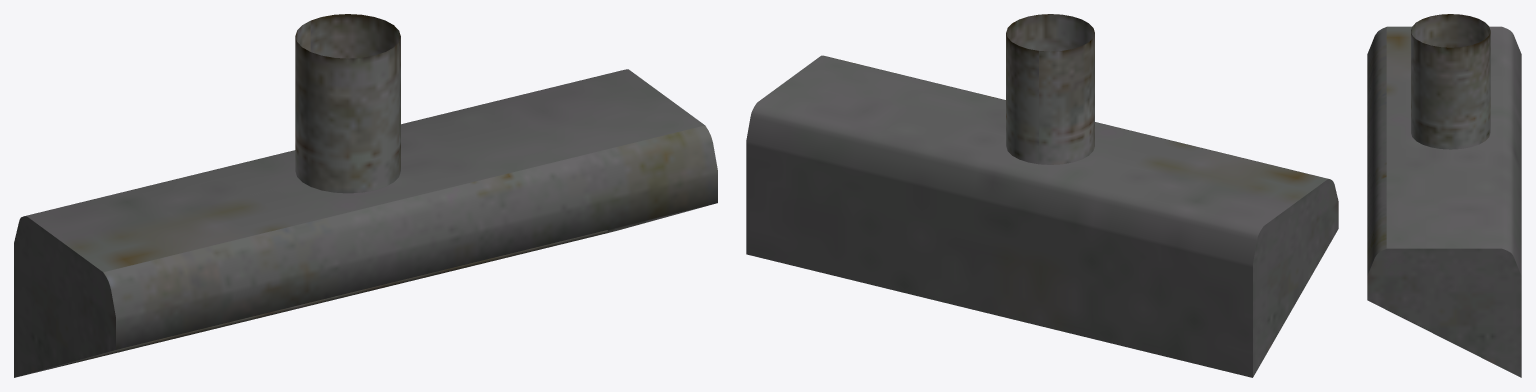
Rendered from sm24_007_exhaustfan01a.fbx.
3 views of the same model, side by side, from view 1: azimuth 30°, elevation 25°; view 2: azimuth 150°, elevation 25°; view 3: azimuth 270°, elevation 25° (orthographic). The views are drawn at different scales.
Visible parts, largest first — view 1: LOD_1_Group_0_Sub_1__sm24_007_ExhaustFan01A_A_Mat; view 2: LOD_1_Group_0_Sub_1__sm24_007_ExhaustFan01A_A_Mat; view 3: LOD_1_Group_0_Sub_1__sm24_007_ExhaustFan01A_A_Mat.
Part boxes in pixels (x1,y1,x2,y2): LOD_1_Group_0_Sub_1__sm24_007_ExhaustFan01A_A_Mat: (14, 14, 717, 377); LOD_1_Group_0_Sub_1__sm24_007_ExhaustFan01A_A_Mat: (746, 14, 1338, 377); LOD_1_Group_0_Sub_1__sm24_007_ExhaustFan01A_A_Mat: (1367, 14, 1521, 377).
Size of the model in its own units: 2.38 by 1.15 by 0.6971.
